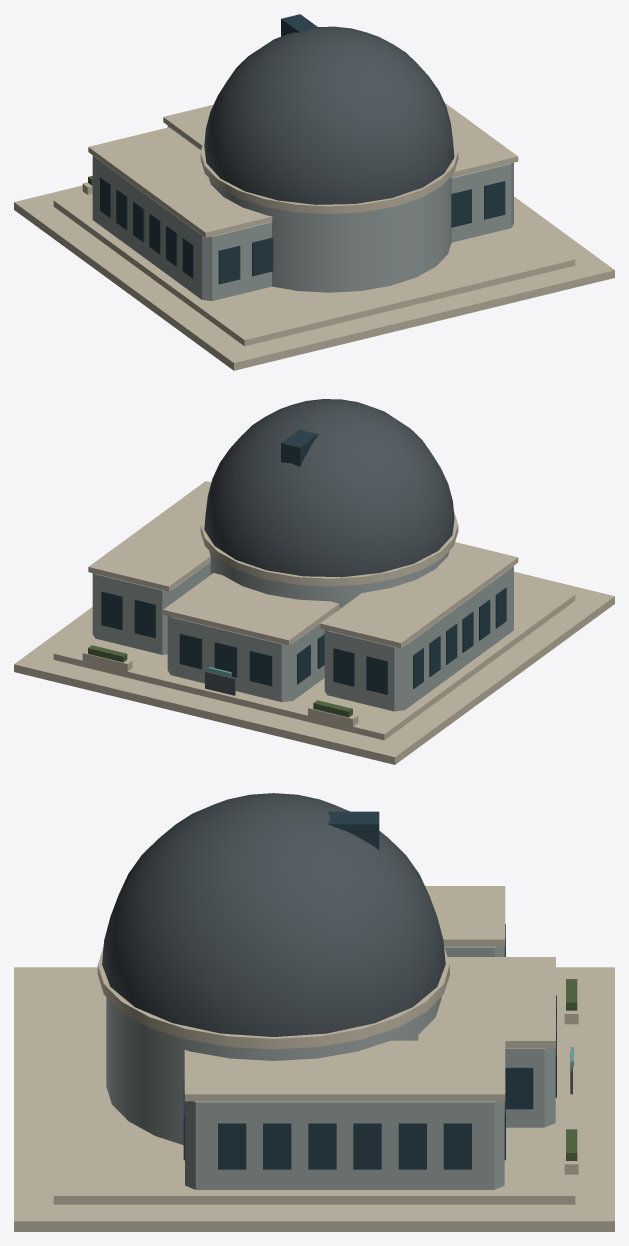
The model's file is research.glb.
3 views of the same model, one above another, from view 1: azimuth 30°, elevation 25°; view 2: azimuth 150°, elevation 25°; view 3: azimuth 270°, elevation 25° (orthographic). The views are drawn at different scales.
Parts seen in each view (by area): view 1: observatory, plinth, foundation, observatory-drum, roof-slabs, research-laboratory-wings, windows, observatory-cornice, observatory-shutter; view 2: observatory, roof-slabs, foundation, research-laboratory-wings, plinth, windows, research-entry, observatory-drum, observatory-cornice, planters, observatory-shutter, planting (+1 smaller); view 3: observatory, foundation, roof-slabs, plinth, research-laboratory-wings, observatory-drum, windows, observatory-cornice, research-entry, observatory-shutter, planting, planters.
Boxes of the visible parts, x1,y1,x2,y2 form: observatory: [204, 26, 454, 204]; plinth: [53, 193, 575, 346]; foundation: [14, 185, 614, 370]; observatory-drum: [209, 177, 451, 292]; roof-slabs: [88, 103, 518, 237]; research-laboratory-wings: [92, 155, 513, 300]; windows: [100, 177, 505, 284]; observatory-cornice: [200, 137, 458, 214]; observatory-shutter: [281, 14, 318, 36]; observatory: [204, 399, 454, 577]; roof-slabs: [88, 481, 518, 648]; foundation: [14, 571, 614, 764]; research-laboratory-wings: [92, 561, 513, 711]; plinth: [53, 579, 575, 740]; windows: [101, 587, 506, 694]; research-entry: [167, 612, 334, 702]; observatory-drum: [209, 551, 449, 612]; observatory-cornice: [200, 509, 458, 586]; planters: [82, 649, 358, 726]; observatory-shutter: [281, 429, 318, 466]; planting: [88, 645, 352, 717]; observatory: [102, 793, 445, 1036]; foundation: [14, 967, 614, 1231]; roof-slabs: [184, 886, 555, 1101]; plinth: [53, 975, 575, 1204]; research-laboratory-wings: [185, 946, 504, 1189]; observatory-drum: [106, 997, 441, 1144]; windows: [183, 924, 556, 1169]; observatory-cornice: [97, 946, 449, 1049]; research-entry: [505, 1048, 555, 1127]; observatory-shutter: [328, 811, 379, 849]; planting: [566, 979, 577, 1160]; planters: [564, 983, 578, 1174].
Bounding box in the file's own units: 15.52 × 8.43 × 15.52.
